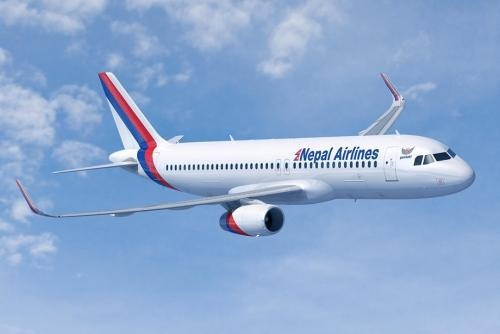airplane: (12, 67, 479, 234)
